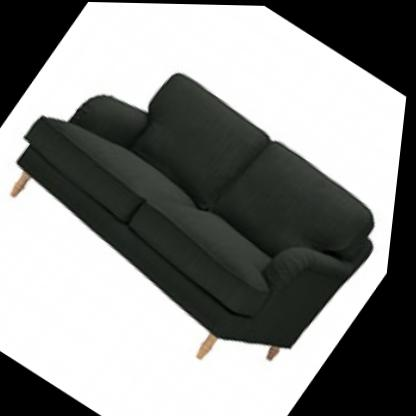Sofa: (0, 2, 416, 411)
